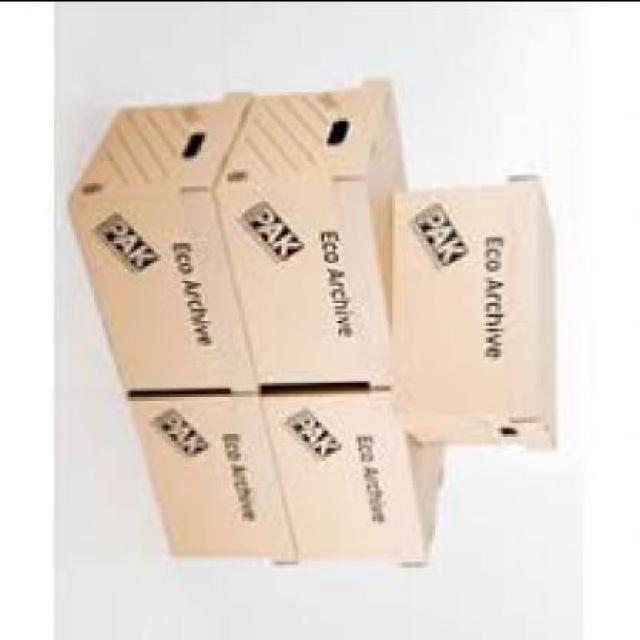CARDBOARD: (222, 77, 407, 381), (74, 88, 255, 387), (394, 173, 558, 441), (268, 375, 446, 560), (134, 380, 301, 552)
